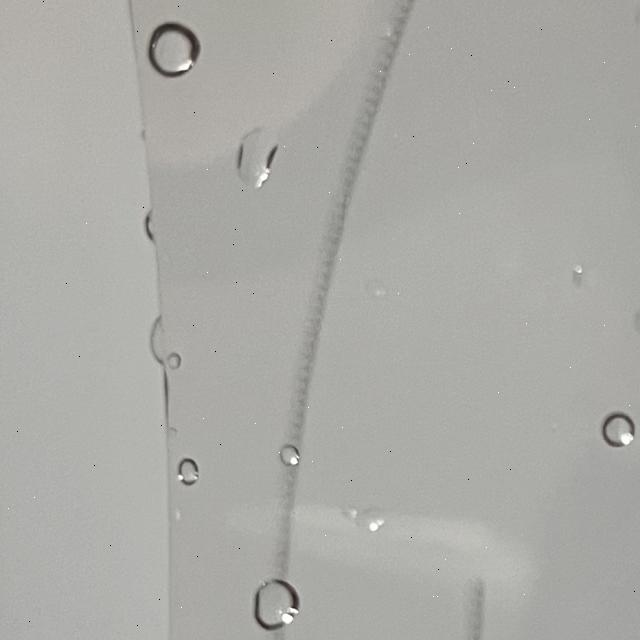raindrop: (225, 123, 290, 194), (240, 574, 308, 636), (148, 18, 206, 81), (168, 446, 218, 504), (589, 404, 634, 464), (268, 436, 301, 479), (341, 495, 379, 529)
